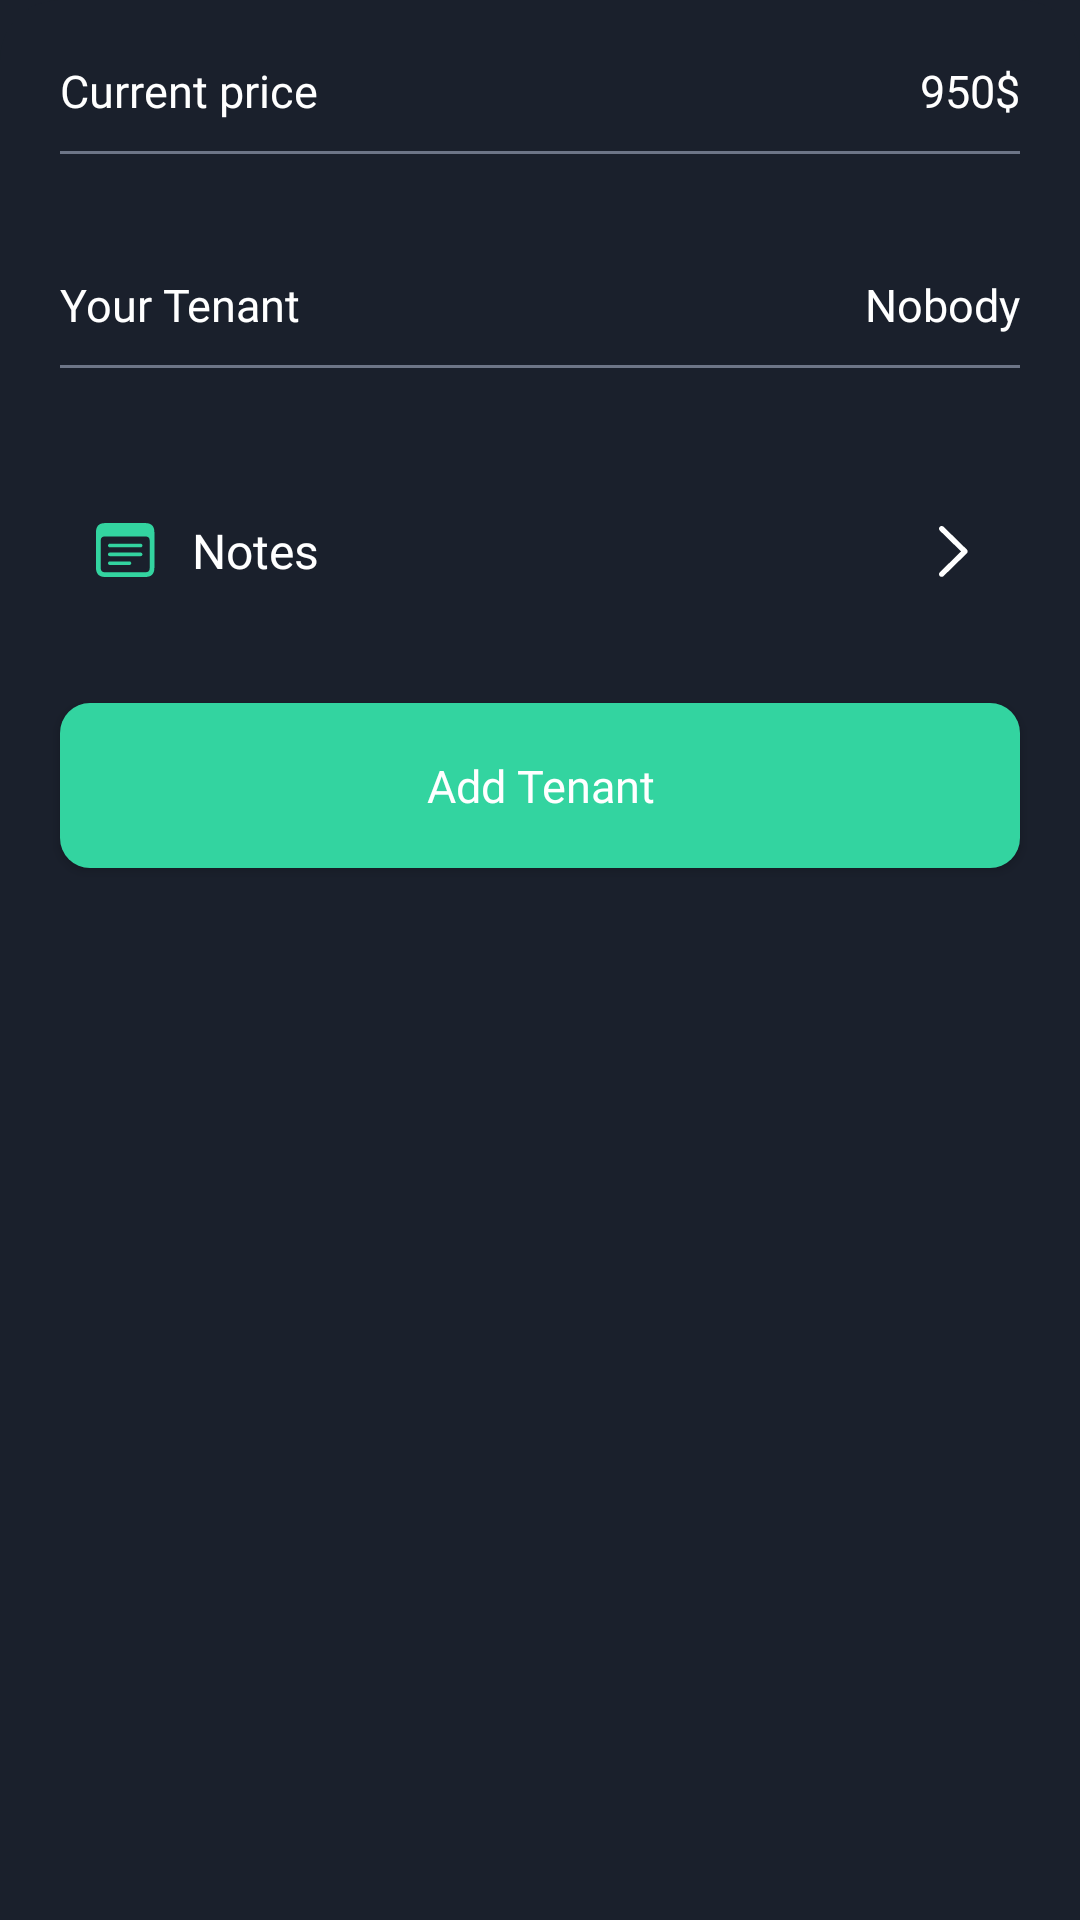

Locate icon controls on the screen. Image size 1080 x 1920, boxes as (x1, y1, x2, y2).
arrow: (939, 526, 968, 577)
